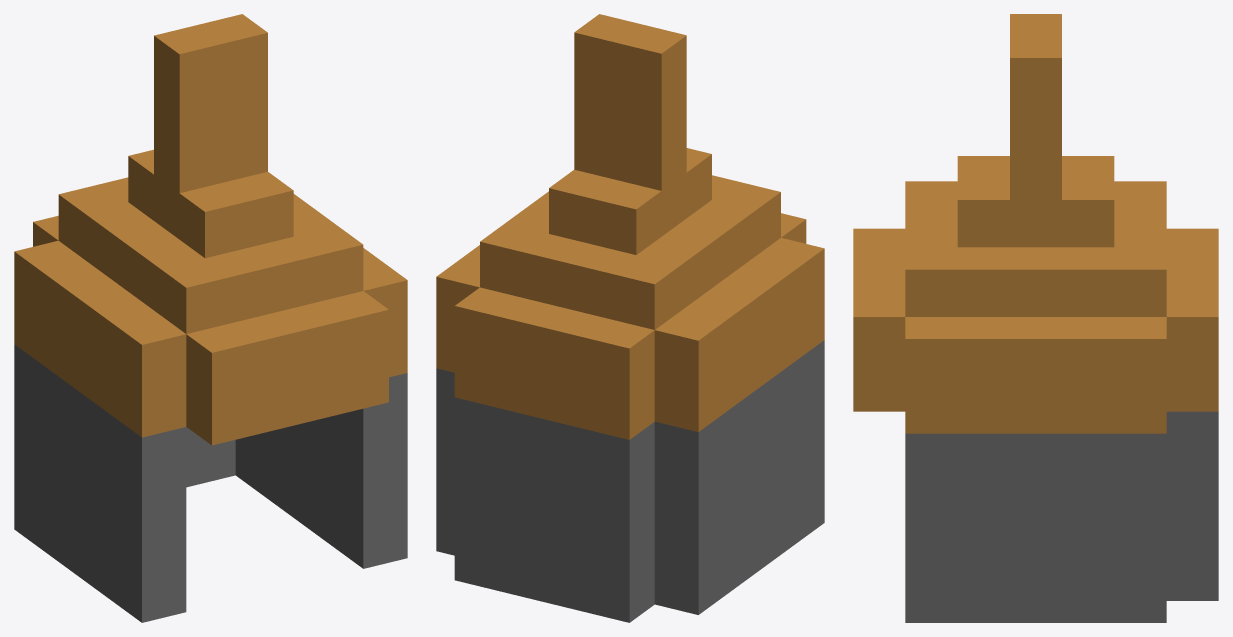
The model's file is humanoid-161-helm_med_2b_sh.obj.
3 views of the same model, side by side, from view 1: azimuth 30°, elevation 25°; view 2: azimuth 150°, elevation 25°; view 3: azimuth 270°, elevation 25° (orthographic). The views are drawn at different scales.
Parts seen in each view (by area): view 1: helm_med_2b_sh; view 2: helm_med_2b_sh; view 3: helm_med_2b_sh.
Boxes of the visible parts, <box> form: helm_med_2b_sh: <box>14,14,407,622</box>; helm_med_2b_sh: <box>436,14,824,622</box>; helm_med_2b_sh: <box>853,14,1218,622</box>.
Size of the model in its own units: 0.6 by 1.1 by 0.7.
Materials: 1 (1 with a texture image).
